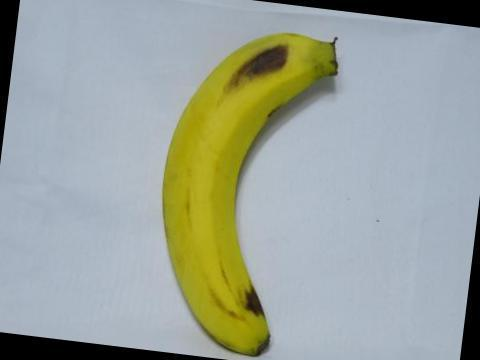freshripe: (141, 26, 361, 354)
